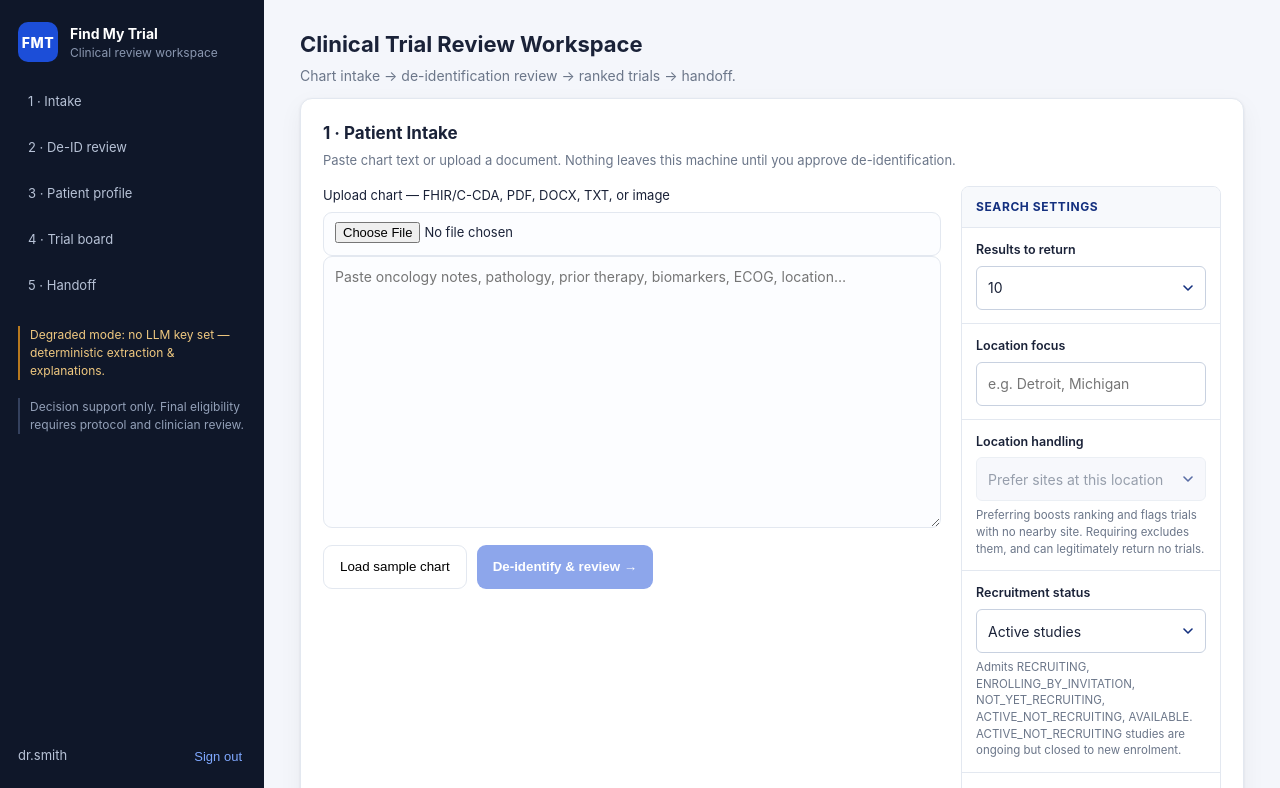
filters › exposes location_required and explains soft vs hard location filtering
This screenshot has width=1280, height=788.
Expected: the heading "Clinical Trial Review Workspace" is shown, [300,31,643,57]
Expected: the dropdown labelled "Location handling" is disabled, [976,457,1206,501]
Type "Detroit, Michigan" into the field labelled "Location focus". click: (1091, 384)
box: [976,362,1206,406]
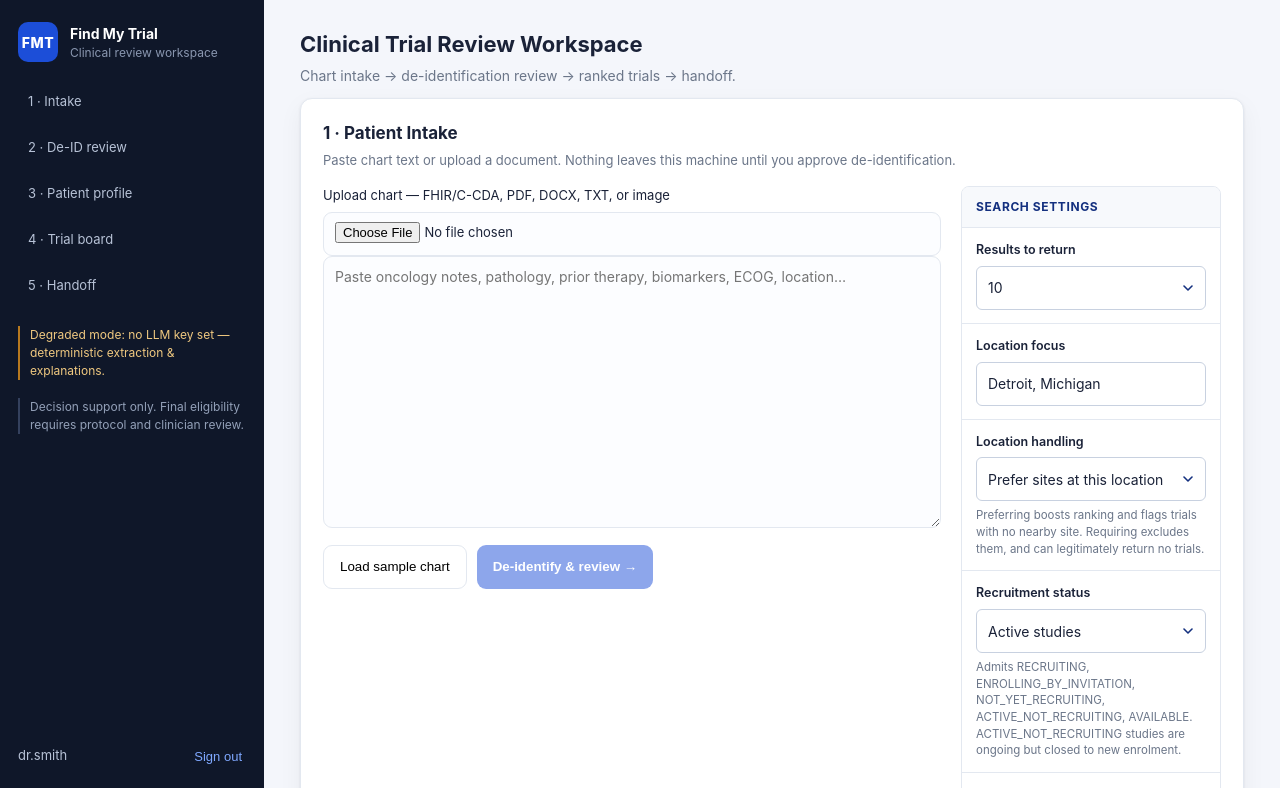
Expected: the text "can legitimately return no trials" is shown, [976,508,1204,556]
Result: the dropdown labelled "Location handling" is enabled at [976,457,1206,501]
